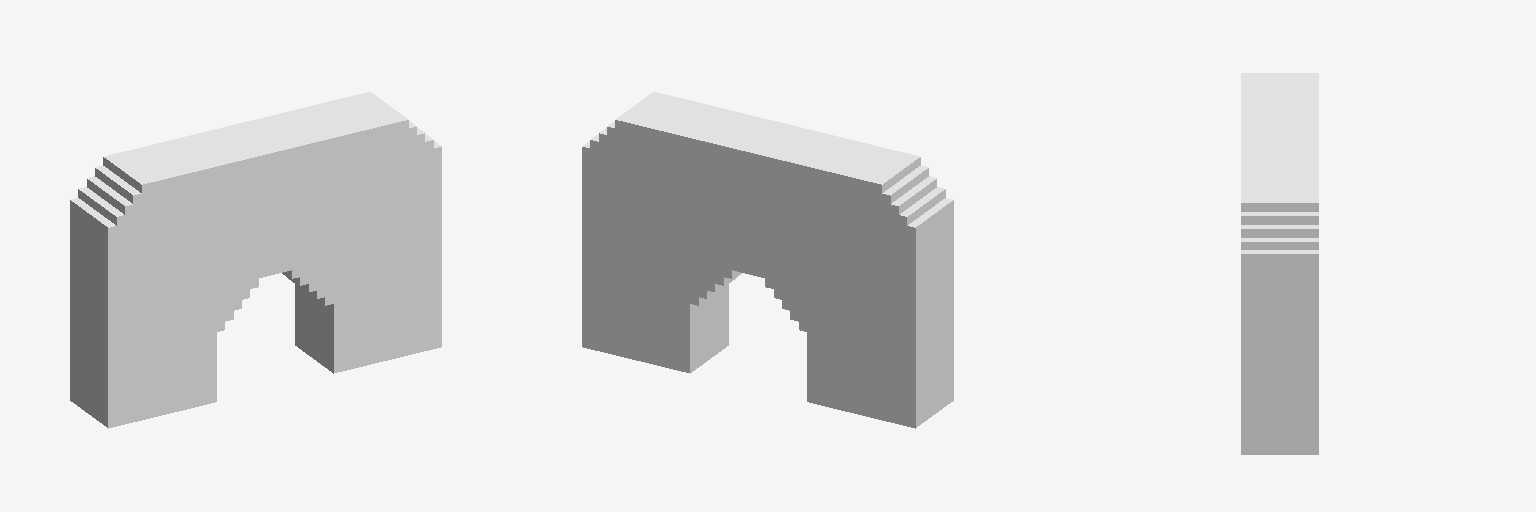
The model's file is defence.obj.
3 renders of one model, left to right at view 1: azimuth 30°, elevation 25°; view 2: azimuth 150°, elevation 25°; view 3: azimuth 270°, elevation 25°, orthographic.
Visible parts, largest first — view 1: object 1; view 2: object 1; view 3: object 1.
Boxes of the visible parts, <box> form: object 1: <box>70,92,441,428</box>; object 1: <box>582,92,953,428</box>; object 1: <box>1241,73,1318,454</box>.
Bounding box in the file's own units: 4 × 2.7 × 0.8.